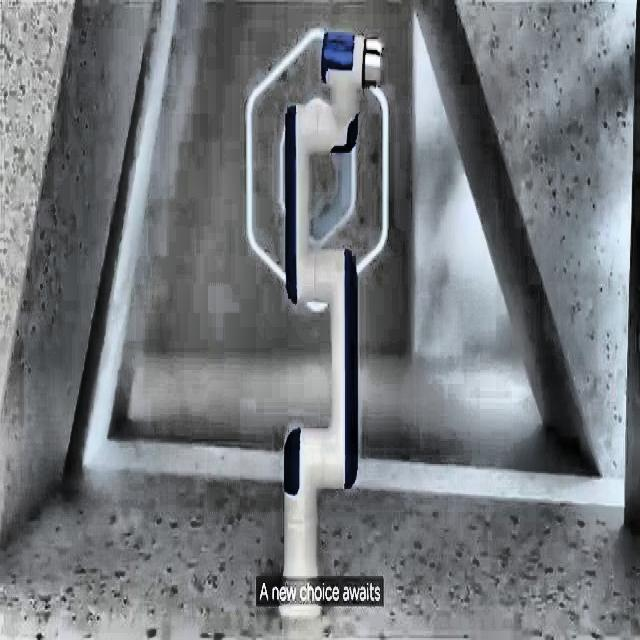robot: (244, 25, 390, 615)
